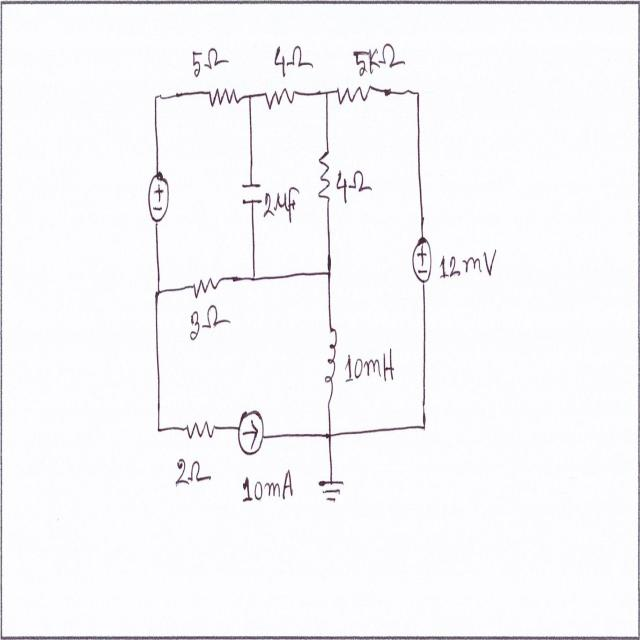capacitor: (240, 176, 264, 208)
current_source: (235, 407, 265, 459)
ground: (316, 472, 347, 513)
inductor: (324, 318, 340, 399)
resistor: (182, 406, 214, 450), (336, 78, 373, 115), (191, 268, 223, 305), (263, 85, 300, 114), (206, 80, 239, 110), (317, 145, 332, 200)
voltage_source: (145, 168, 171, 230), (410, 231, 437, 287)
